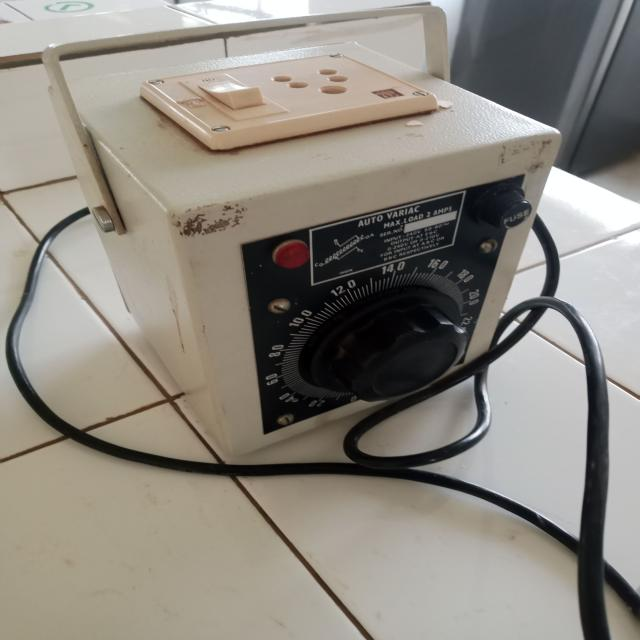Auto Variac AC Transformer 0-280 V: (52, 12, 570, 458)
